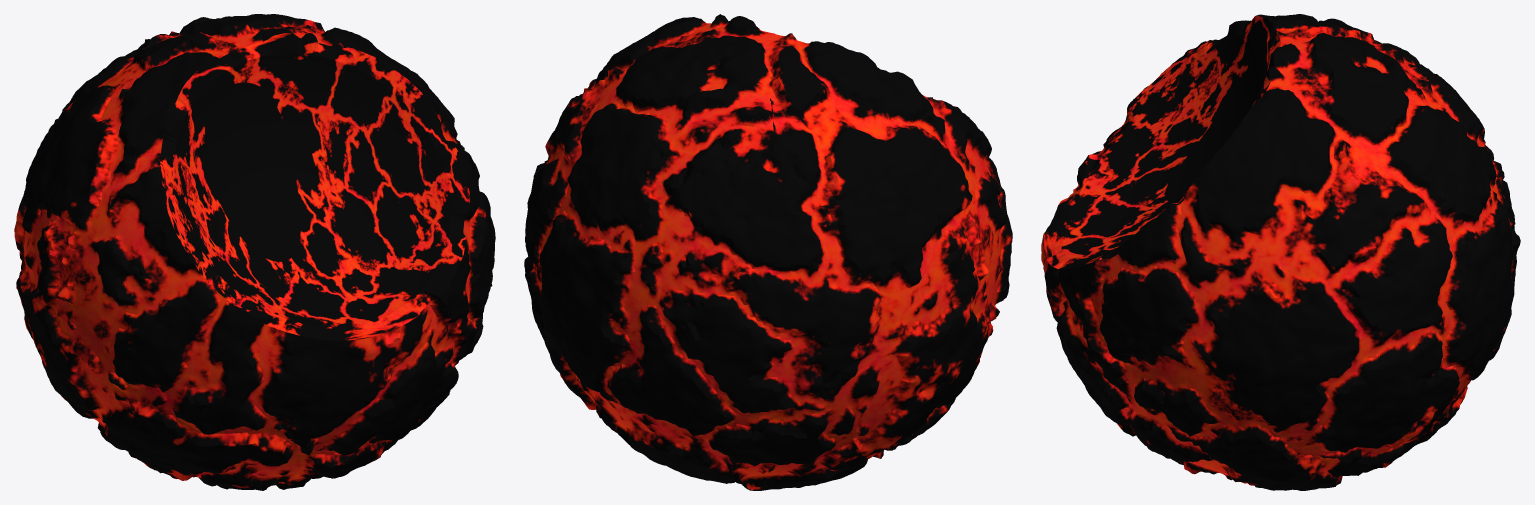
Rendered from bol_baked.fbx.
3 views of the same model, side by side, from view 1: azimuth 30°, elevation 25°; view 2: azimuth 150°, elevation 25°; view 3: azimuth 270°, elevation 25° (orthographic). The views are drawn at different scales.
Visible parts, largest first — view 1: Icosphere, Icosphere.001; view 2: Icosphere; view 3: Icosphere, Icosphere.001.
Boxes of the visible parts, x1,y1,x2,y2 form: Icosphere: (14, 14, 495, 490); Icosphere.001: (160, 33, 469, 340); Icosphere: (524, 14, 1012, 490); Icosphere: (1041, 14, 1520, 490); Icosphere.001: (1042, 15, 1280, 269).
Bounding box in the file's own units: 208 × 207 × 209.
